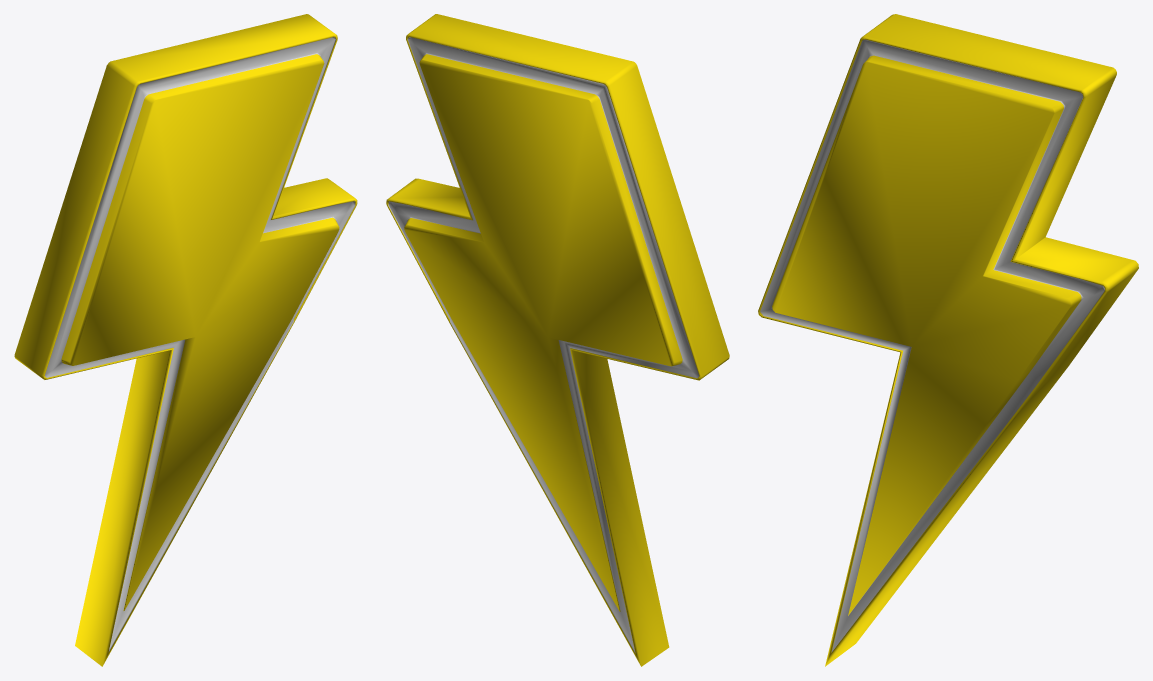
File: Lightning.fbx
3 renders of one model, left to right at view 1: azimuth 30°, elevation 25°; view 2: azimuth 150°, elevation 25°; view 3: azimuth 330°, elevation 25°, orthographic. The views are drawn at different scales.
Visible parts, largest first — view 1: pPlane1; view 2: pPlane1; view 3: pPlane1.
Boxes of the visible parts, <box> form: pPlane1: <box>14,14,357,666</box>; pPlane1: <box>386,14,729,666</box>; pPlane1: <box>758,14,1138,666</box>.
Bounding box in the file's own units: 2.46 × 4.29 × 0.5783.
